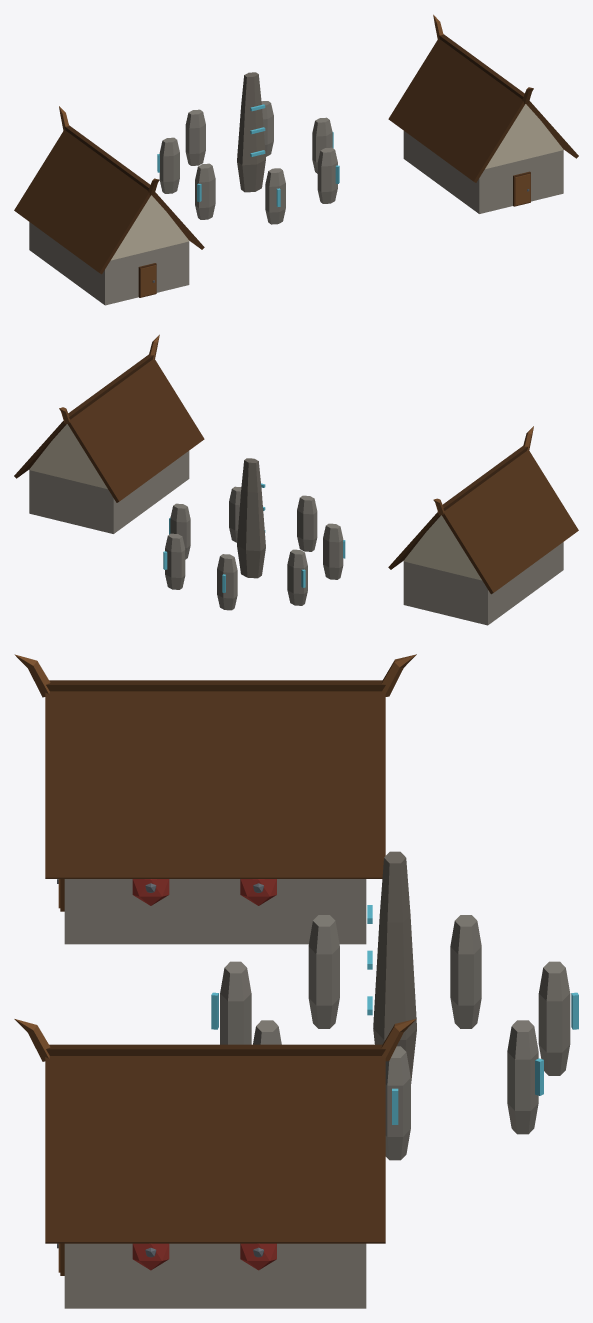
Rendered from dwarf_court.glb.
The picture shows the model from 3 angles, top to bottom: view 1: azimuth 30°, elevation 25°; view 2: azimuth 150°, elevation 25°; view 3: azimuth 270°, elevation 25°; orthographic projection. The views are drawn at different scales.
Parts seen in each view (by area): view 1: dwarf_court; view 2: dwarf_court; view 3: dwarf_court.
Part boxes in pixels (x1,y1,x2,y2): dwarf_court: (14, 14, 578, 305); dwarf_court: (14, 334, 578, 625); dwarf_court: (14, 654, 578, 1308).
Size of the model in its own units: 6.15 by 1.53 by 3.15.
